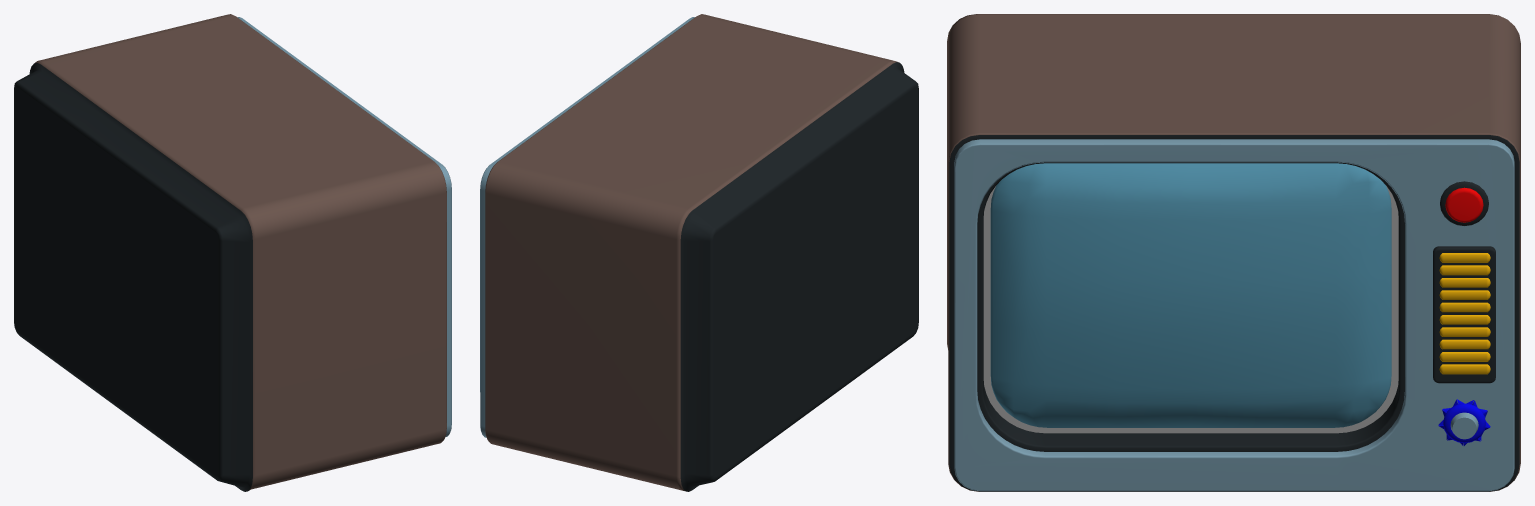
The model's file is SM_TV_Regular.fbx.
3 views of the same model, side by side, from view 1: azimuth 30°, elevation 25°; view 2: azimuth 150°, elevation 25°; view 3: azimuth 270°, elevation 25° (orthographic). The views are drawn at different scales.
Parts seen in each view (by area): view 1: TV_Regular_mesh; view 2: TV_Regular_mesh; view 3: TV_Regular_mesh.
Part boxes in pixels (box(x1,y1,x2,y2)): TV_Regular_mesh: box(14, 14, 451, 491); TV_Regular_mesh: box(480, 14, 918, 491); TV_Regular_mesh: box(947, 14, 1520, 491).
Size of the model in its own units: 91.17 by 103 by 149.
